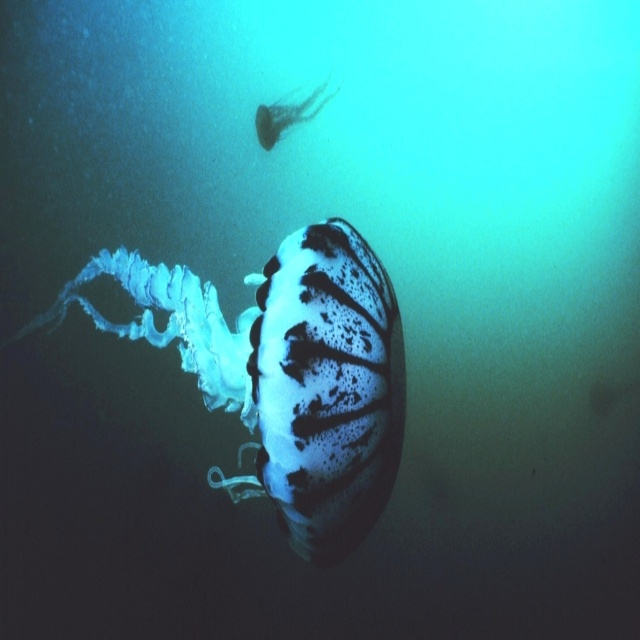Jellyfish: (0, 218, 408, 568), (254, 75, 338, 155)
